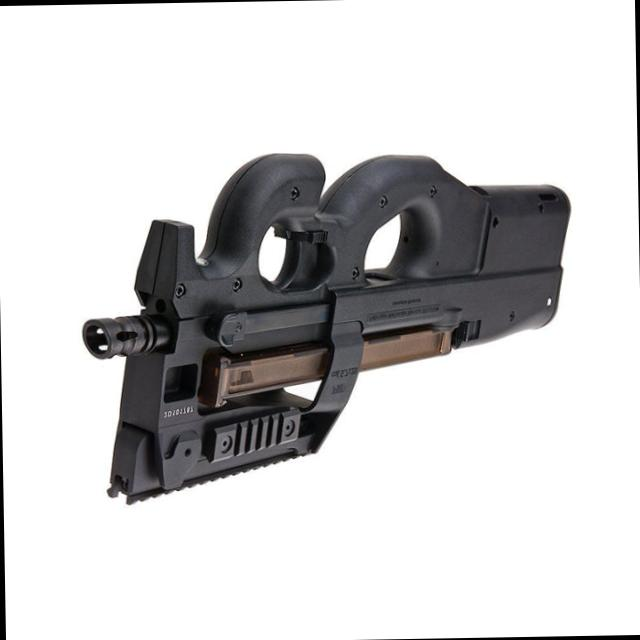Gun: (14, 125, 592, 519)
